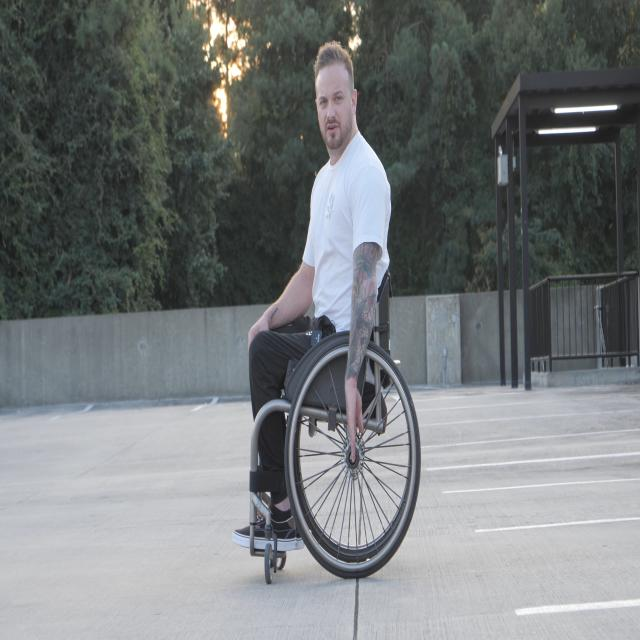wheelchairs: (248, 267, 422, 588)
